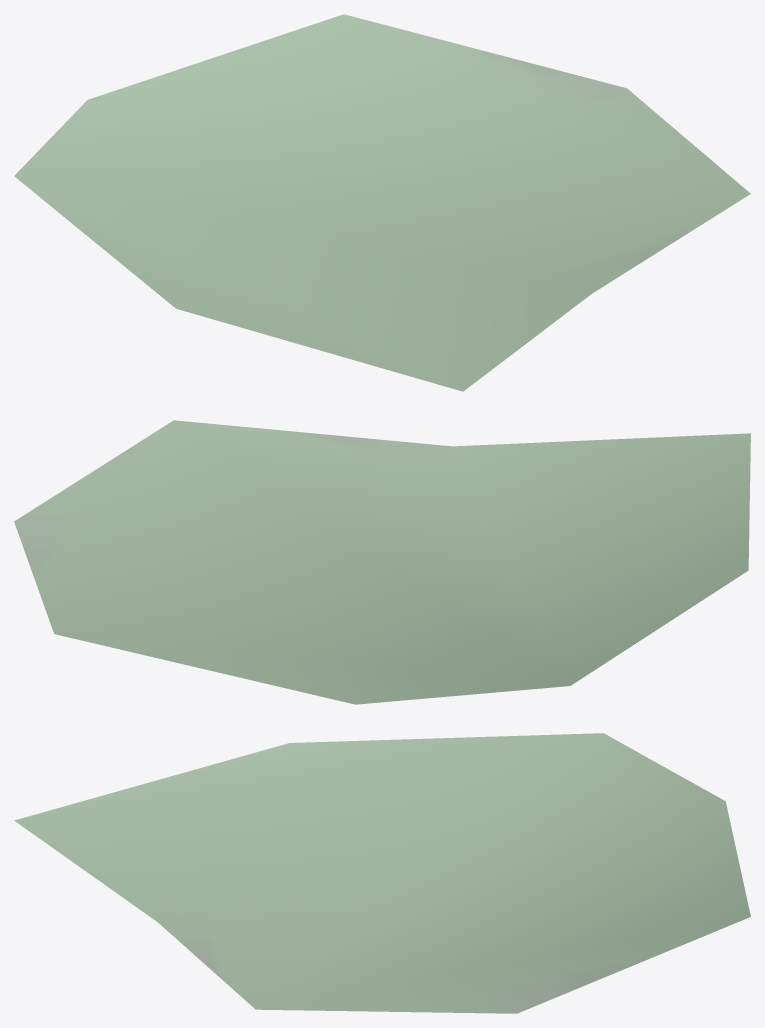
File: TROLLHOLE02_HOLECAP53.fbx
3 renders of one model, top to bottom at view 1: azimuth 30°, elevation 25°; view 2: azimuth 150°, elevation 25°; view 3: azimuth 270°, elevation 25°, orthographic. The views are drawn at different scales.
Parts seen in each view (by area): view 1: TROLLHOLE02_HOLECAP53; view 2: TROLLHOLE02_HOLECAP53; view 3: TROLLHOLE02_HOLECAP53.
Part boxes in pixels (x1,y1,x2,y2): TROLLHOLE02_HOLECAP53: [14, 14, 750, 391]; TROLLHOLE02_HOLECAP53: [14, 420, 750, 704]; TROLLHOLE02_HOLECAP53: [14, 733, 750, 1013].
Bounding box in the file's own units: 17868 × 1088 × 20984.
1 material, 1 textured.
